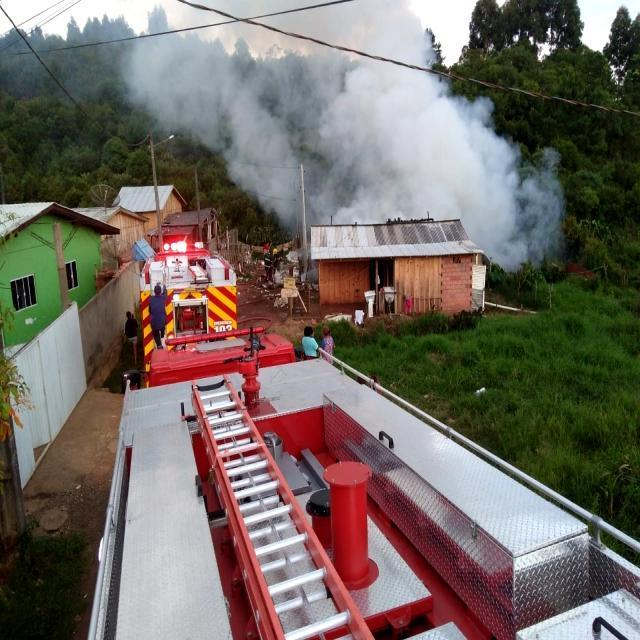Smoke: (294, 71, 564, 279), (114, 11, 361, 199)
